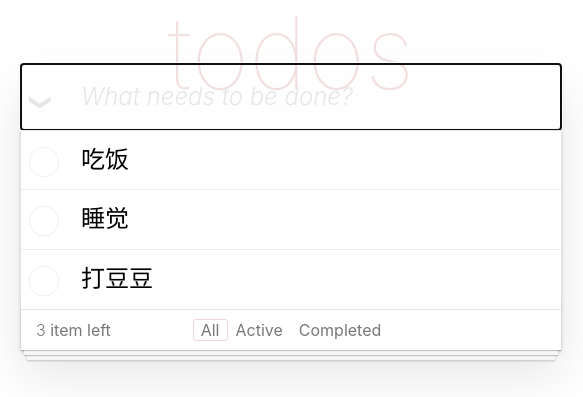
切换所有任务的完成状态 › 点击切换所有按钮，所有的任务应该随之改变
The width and height of the screenshot is (583, 397).
Click the checkbox with test id "toggle-all": (38, 96) [21,66,55,126]
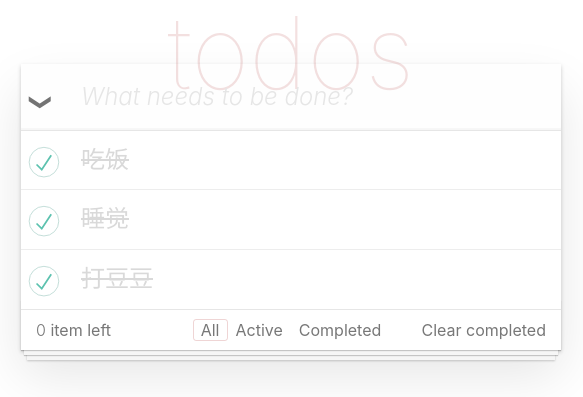
Now the checkbox with test id "todo-done" next to "吃饭" is checked, box [21,131,61,189]
Now the checkbox with test id "todo-done" next to "睡觉" is checked, box [21,190,61,249]
Now the checkbox with test id "todo-done" next to "打豆豆" is checked, box [21,250,61,309]
Click the checkbox with test id "toggle-all": (38, 96) [21,66,55,126]
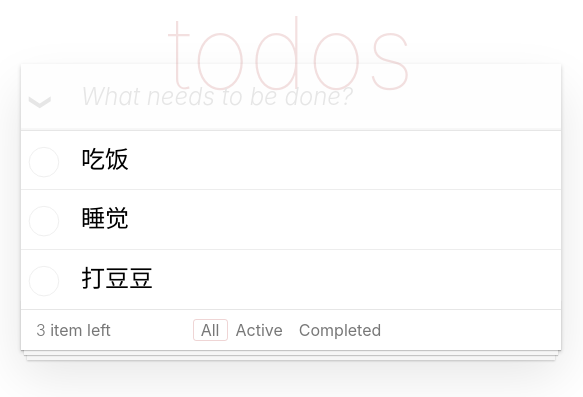
Now the checkbox with test id "todo-done" next to "吃饭" is not checked, box [21,131,61,189]
Now the checkbox with test id "todo-done" next to "睡觉" is not checked, box [21,190,61,249]
Now the checkbox with test id "todo-done" next to "打豆豆" is not checked, box [21,250,61,309]
